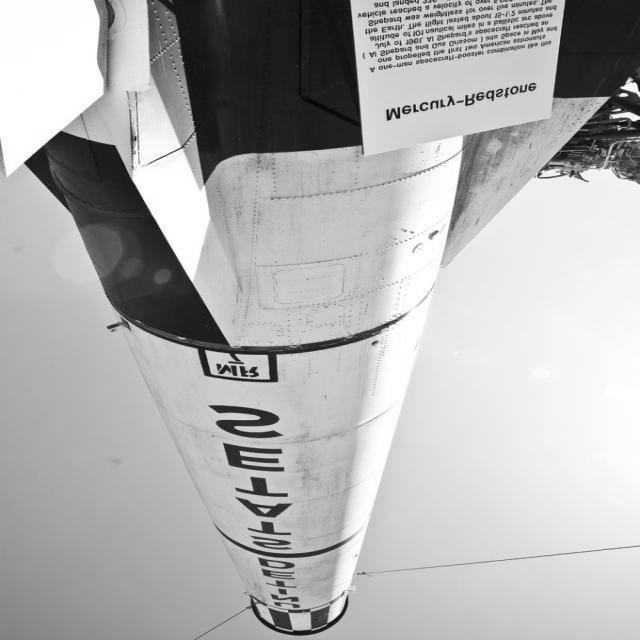missile: (54, 0, 471, 635)
